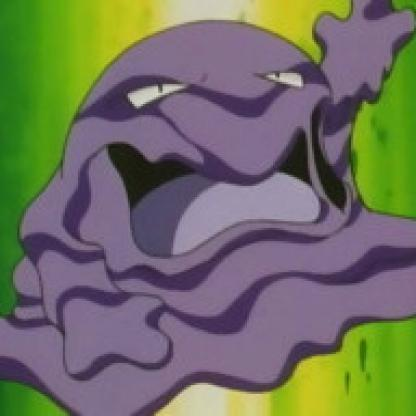Muk: (1, 1, 415, 415)
